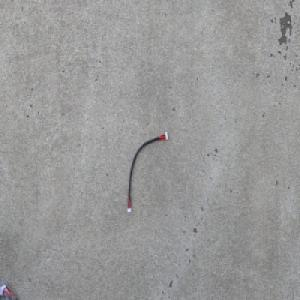Wire: (125, 129, 169, 213)
